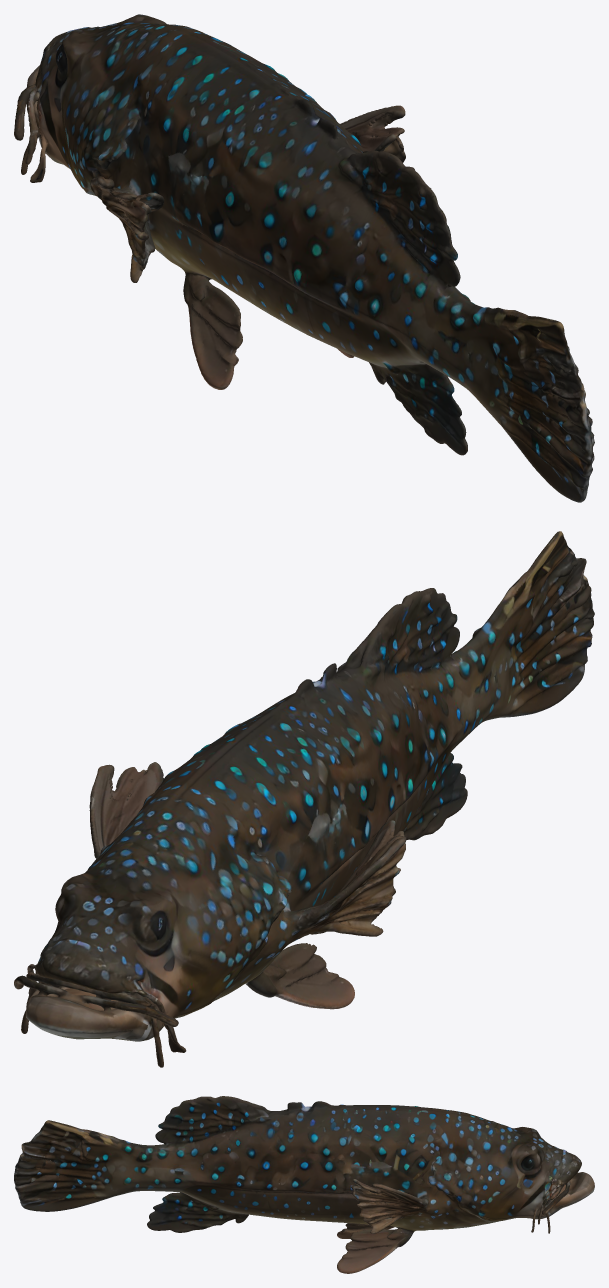
File: fish_peacock_grouper.glb
3 views of the same model, one above another, from view 1: azimuth 30°, elevation 25°; view 2: azimuth 150°, elevation 25°; view 3: azimuth 270°, elevation 25° (orthographic). The views are drawn at different scales.
Parts seen in each view (by area): view 1: tripo_node_61fba768-36d5-4fea-b4c0-915f3c8cdda7; view 2: tripo_node_61fba768-36d5-4fea-b4c0-915f3c8cdda7; view 3: tripo_node_61fba768-36d5-4fea-b4c0-915f3c8cdda7.
Boxes of the visible parts, x1=… form: tripo_node_61fba768-36d5-4fea-b4c0-915f3c8cdda7: x1=14, y1=14, x2=594, y2=502; tripo_node_61fba768-36d5-4fea-b4c0-915f3c8cdda7: x1=14, y1=531, x2=594, y2=1067; tripo_node_61fba768-36d5-4fea-b4c0-915f3c8cdda7: x1=14, y1=1096, x2=594, y2=1273.
Bounding box in the file's own units: 0.325 × 0.3043 × 1.
1 material, 1 textured.
